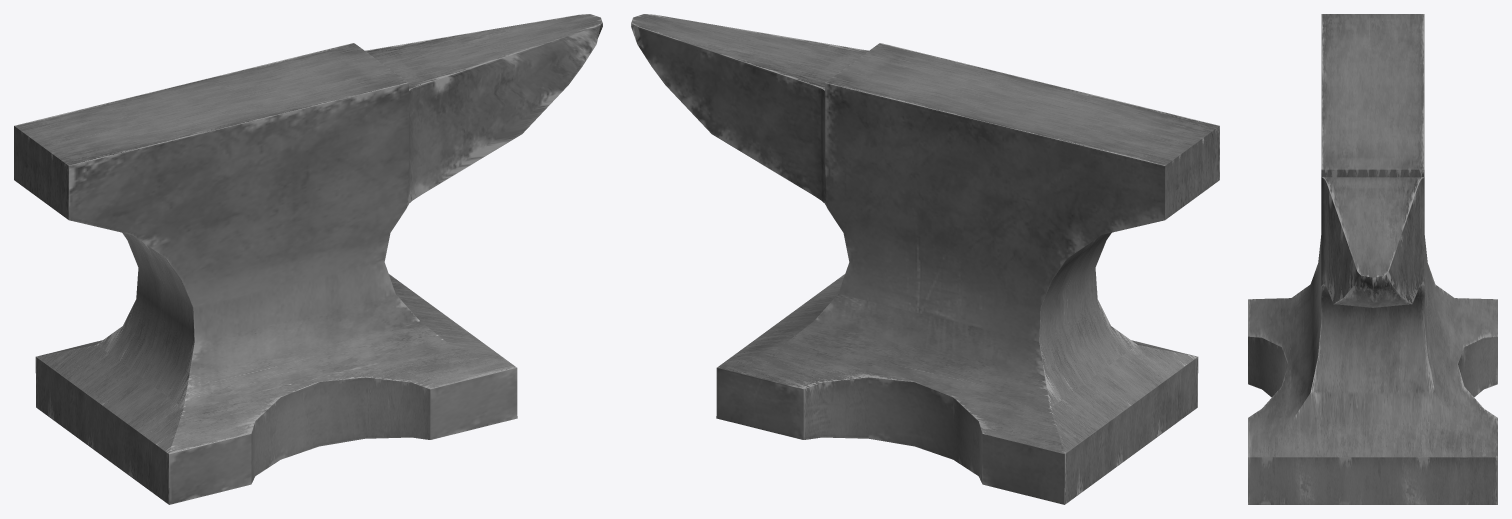
The model's file is anvil.glb.
3 renders of one model, left to right at view 1: azimuth 30°, elevation 25°; view 2: azimuth 150°, elevation 25°; view 3: azimuth 270°, elevation 25°, orthographic. The views are drawn at different scales.
Parts seen in each view (by area): view 1: Object_2; view 2: Object_2; view 3: Object_2.
Part boxes in pixels (x1=…): Object_2: x1=14, y1=14, x2=602, y2=504; Object_2: x1=631, y1=14, x2=1219, y2=504; Object_2: x1=1248, y1=14, x2=1497, y2=504.
Size of the model in its own units: 1.74 by 0.9657 by 0.7172.
1 material, 1 textured.
